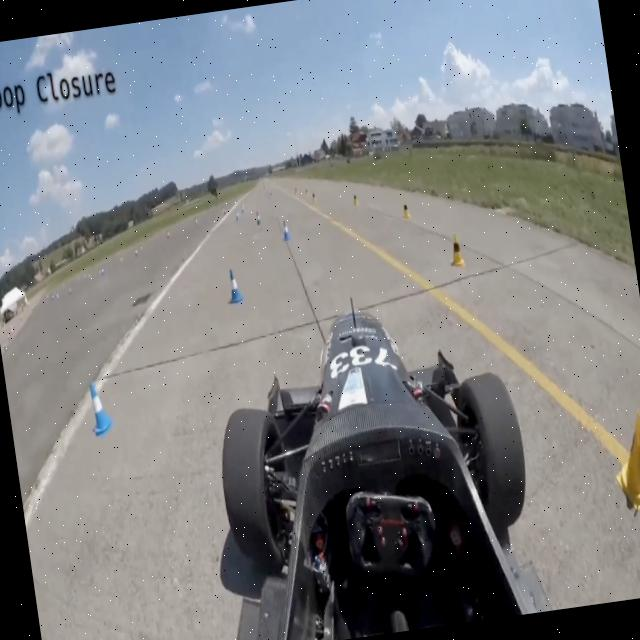blue_cone: (86, 379, 115, 439), (223, 266, 244, 306), (280, 218, 292, 242)
yellow_cone: (607, 407, 640, 515), (447, 232, 466, 268)
